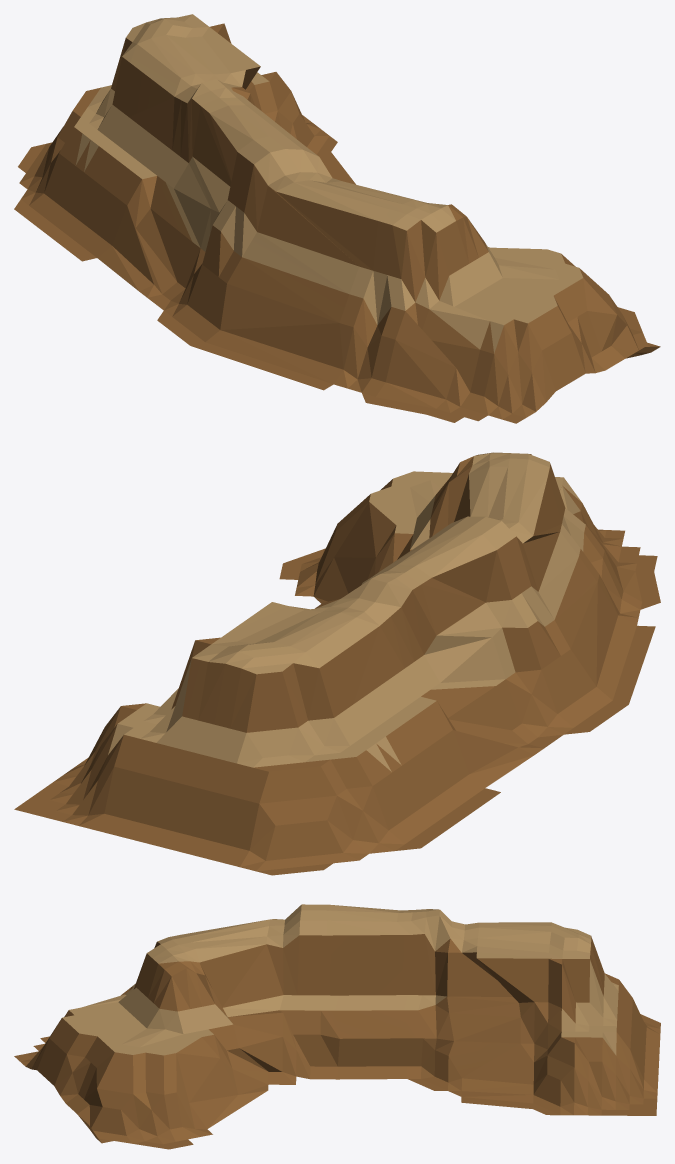
File: Mountain2.fbx
3 views of the same model, one above another, from view 1: azimuth 30°, elevation 25°; view 2: azimuth 150°, elevation 25°; view 3: azimuth 270°, elevation 25° (orthographic). The views are drawn at different scales.
Parts seen in each view (by area): view 1: Mountain2; view 2: Mountain2; view 3: Mountain2.
Part boxes in pixels (x1,y1,x2,y2): Mountain2: (14,14,660,423); Mountain2: (14,452,660,875); Mountain2: (14,904,660,1149).
Bounding box in the file's own units: 4791 × 2054 × 8814.
